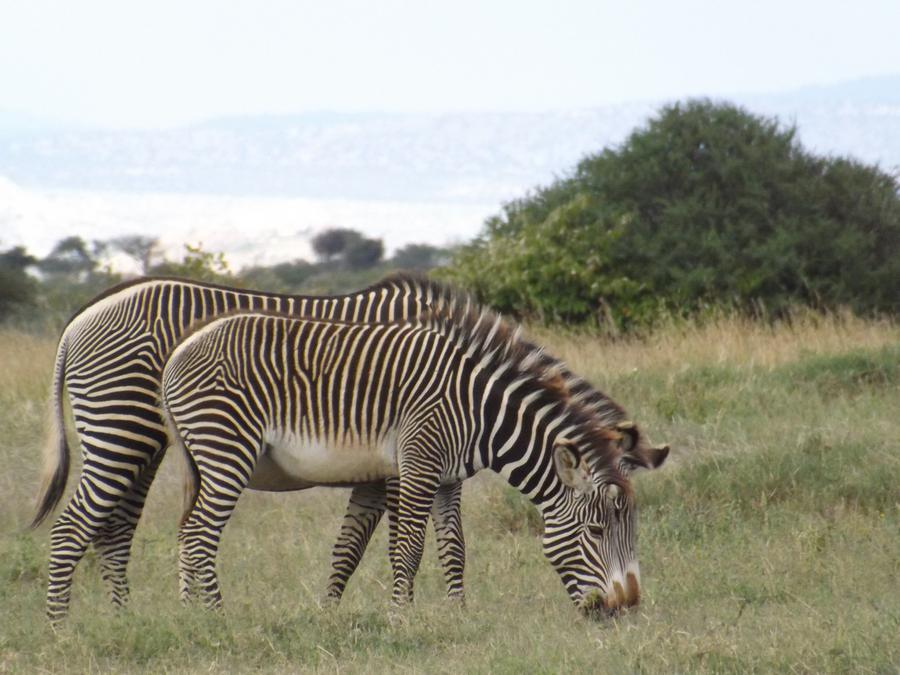zebra_grevys: (170, 306, 457, 490)
